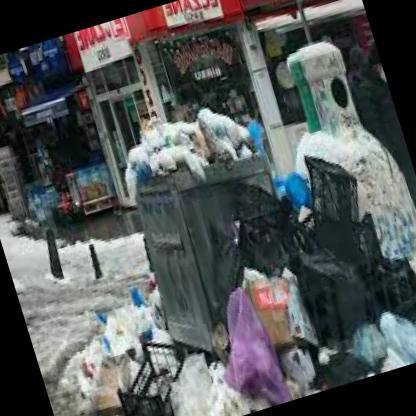Garbage: (217, 164, 405, 402), (57, 281, 200, 415), (154, 297, 287, 415), (116, 104, 246, 188), (118, 115, 266, 186), (362, 204, 415, 364)
